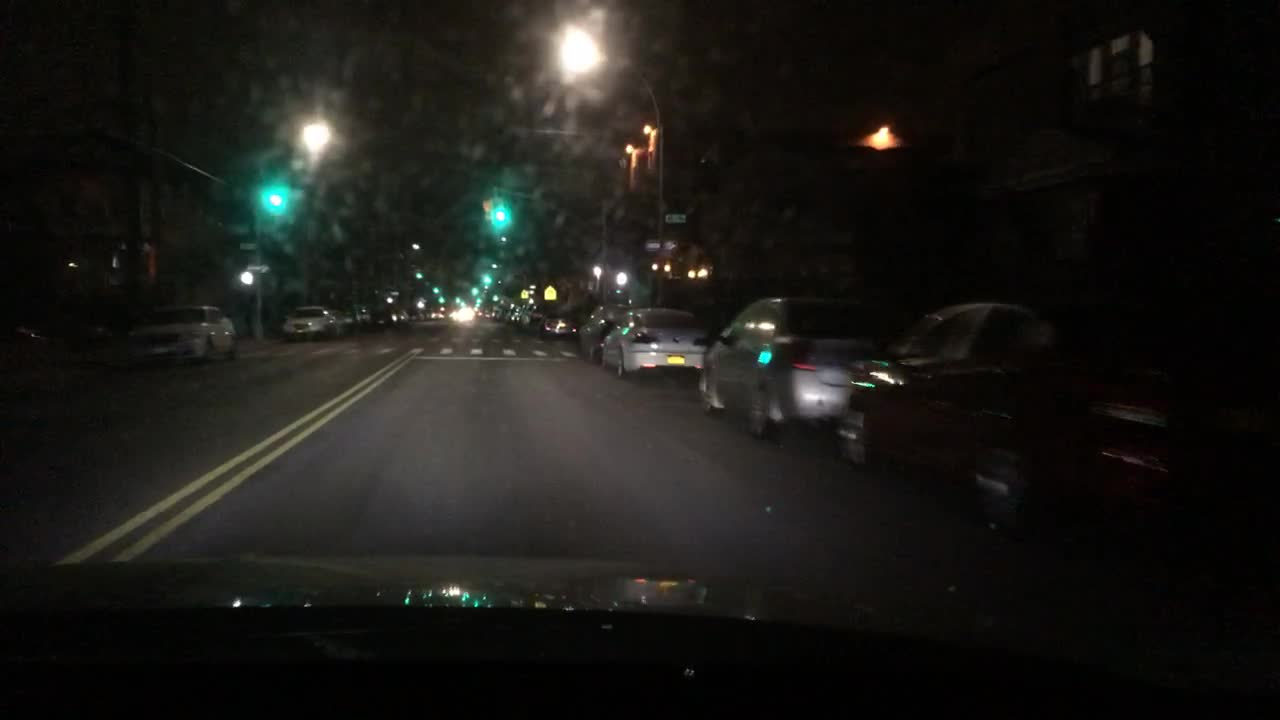car: (836, 294, 1277, 533), (696, 294, 905, 438), (601, 307, 707, 381), (127, 306, 239, 358), (574, 307, 630, 357), (281, 303, 332, 337), (540, 309, 575, 336), (4, 326, 46, 343), (351, 305, 375, 328), (329, 310, 347, 335), (452, 305, 475, 321), (522, 307, 538, 330), (378, 307, 396, 327), (398, 308, 415, 324), (510, 308, 522, 324), (499, 309, 510, 324), (428, 309, 443, 318), (413, 310, 425, 321), (486, 306, 496, 318)
traffic light: (264, 182, 291, 215), (492, 199, 513, 234), (469, 285, 479, 296), (482, 275, 491, 284), (412, 271, 421, 278), (432, 285, 439, 293)
traffic sign: (242, 262, 273, 285), (644, 241, 678, 252), (662, 212, 687, 224)
